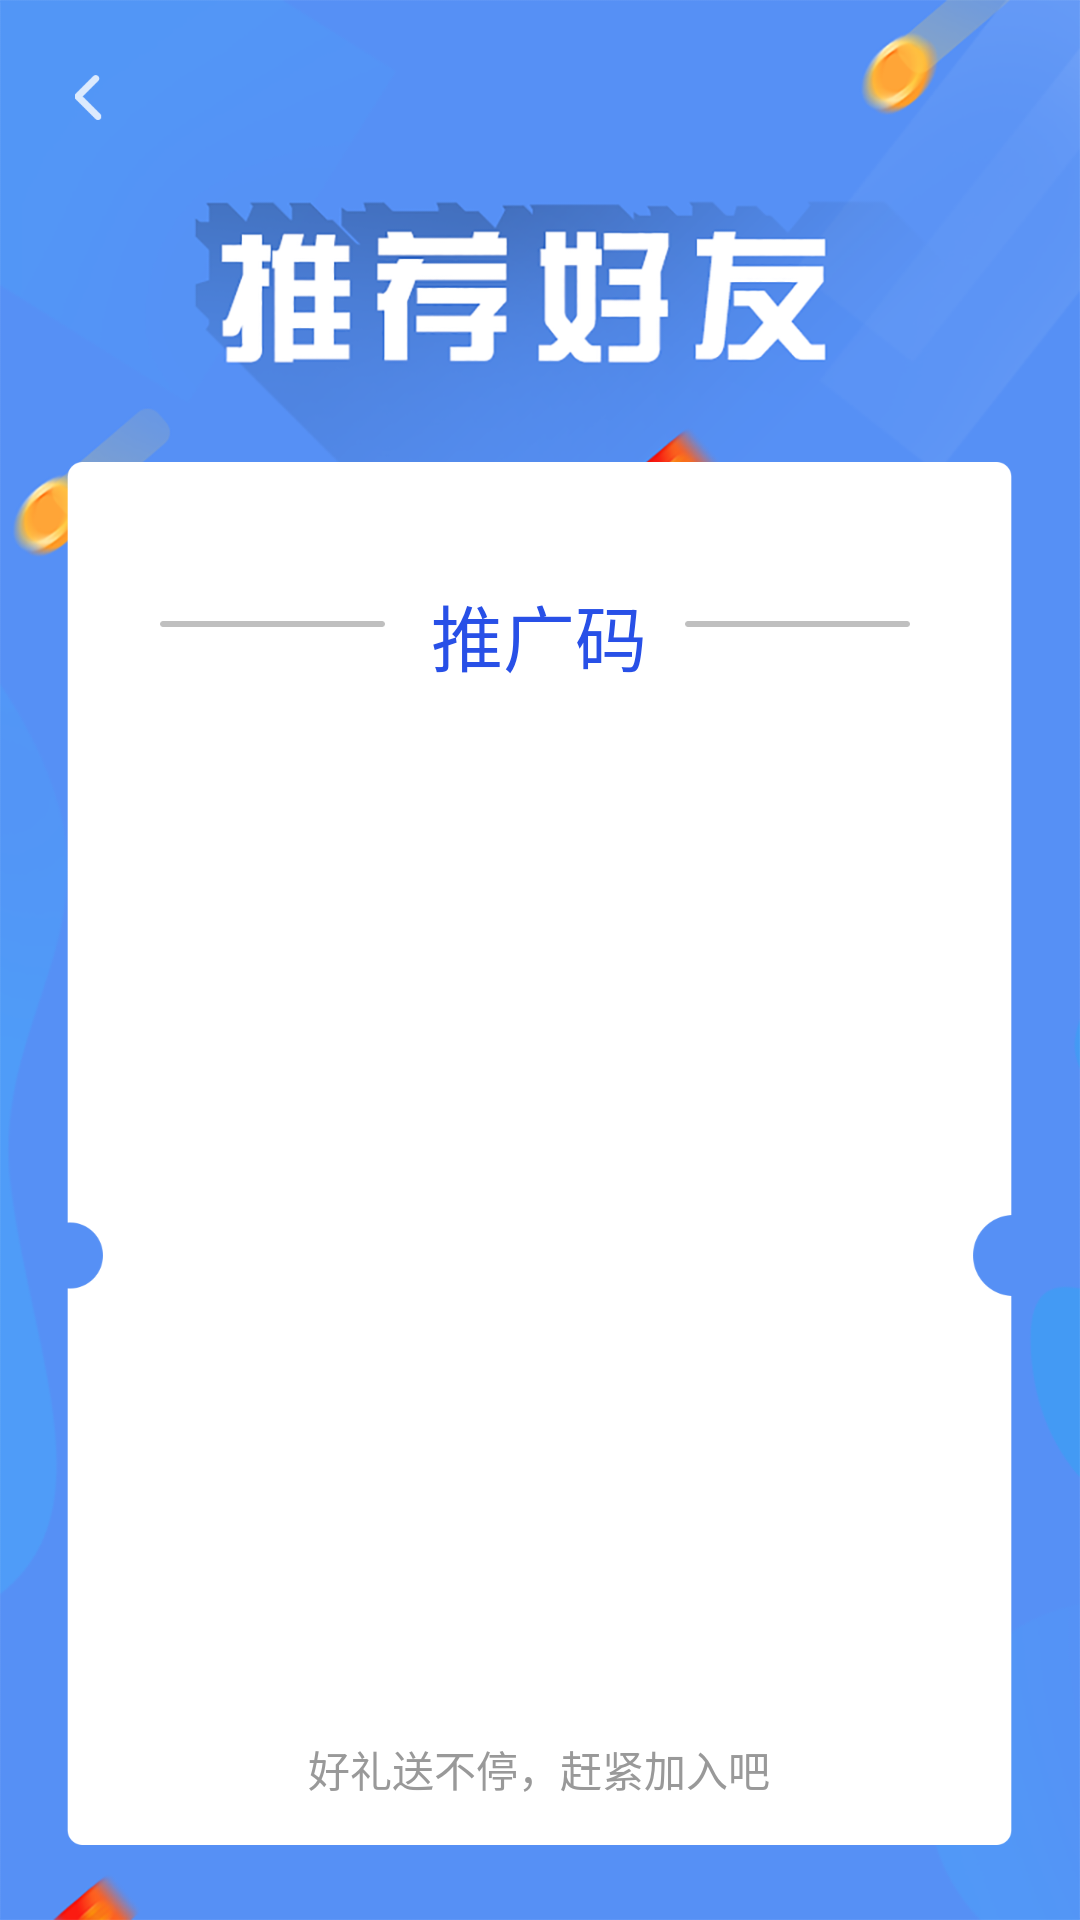

Where to tap for icons on this 1080 × 1920 app screen, as [x,y]:
qr return: [88,97]
